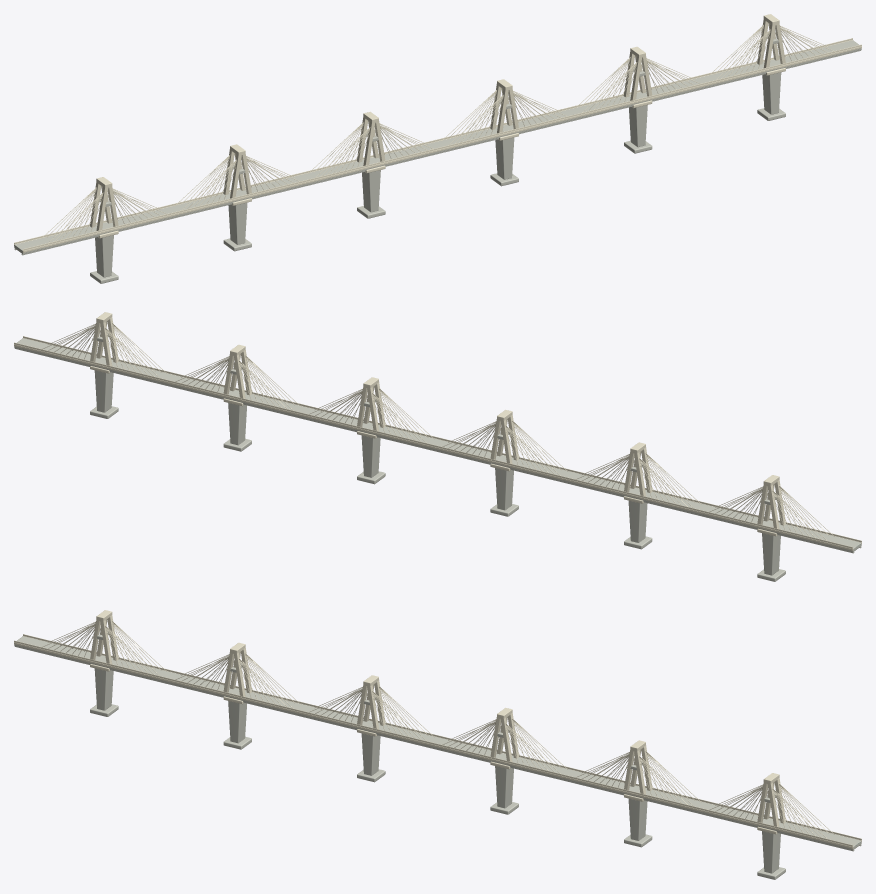
Rendered from maracaibo-bridge.glb.
3 views of the same model, one above another, from view 1: azimuth 30°, elevation 25°; view 2: azimuth 150°, elevation 25°; view 3: azimuth 330°, elevation 25° (orthographic).
Visible parts, largest first — view 1: Ivory, Warm limestone; view 2: Ivory, Warm limestone; view 3: Ivory, Warm limestone.
Part boxes in pixels (box(x1,y1,x2,y2)): Ivory: box(14, 14, 861, 252); Warm limestone: box(14, 34, 861, 283); Ivory: box(14, 312, 861, 550); Warm limestone: box(14, 332, 861, 581); Ivory: box(14, 610, 861, 848); Warm limestone: box(14, 630, 861, 879).
Bounding box in the file's own units: 440 × 48.8 × 10.
